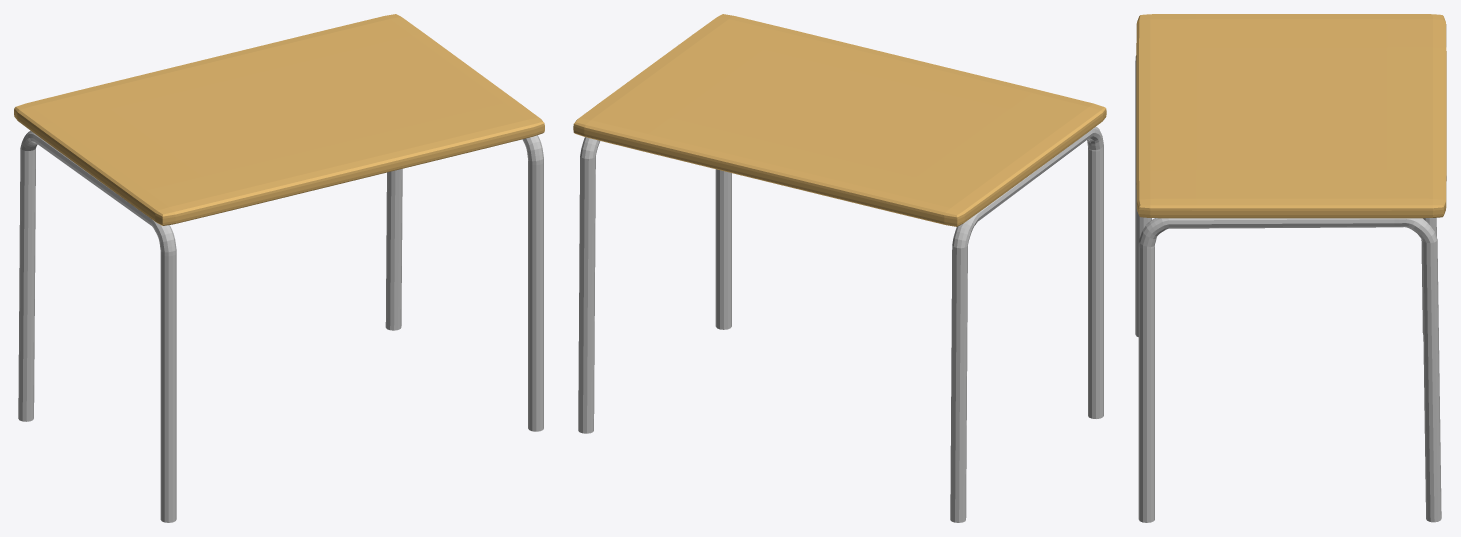
Rendered from Classroom table.fbx.
The picture shows the model from 3 angles, left to right: view 1: azimuth 30°, elevation 25°; view 2: azimuth 150°, elevation 25°; view 3: azimuth 270°, elevation 25°; orthographic projection. The views are drawn at different scales.
Parts seen in each view (by area): view 1: Cube, Cylinder.002, Cylinder.001; view 2: Cube, Cylinder.002, Cylinder.001; view 3: Cube, Cylinder.001, Cylinder.002.
Boxes of the visible parts, x1,y1,x2,y2 form: Cube: [14, 14, 544, 225]; Cylinder.002: [18, 130, 176, 522]; Cylinder.001: [385, 135, 543, 431]; Cube: [573, 14, 1106, 226]; Cylinder.002: [950, 127, 1103, 522]; Cylinder.001: [578, 137, 731, 433]; Cube: [1136, 14, 1446, 218]; Cylinder.001: [1138, 218, 1441, 522]; Cylinder.002: [1135, 55, 1436, 336].
Size of the model in its own units: 2.96 by 2.26 by 2.01.
